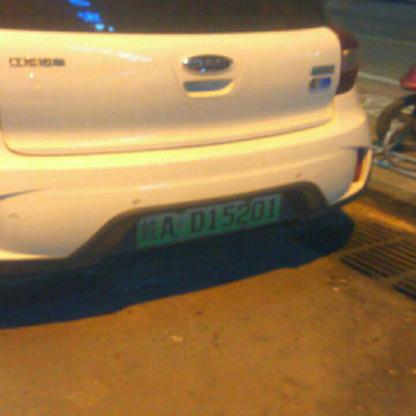lp: (134, 193, 280, 250)
